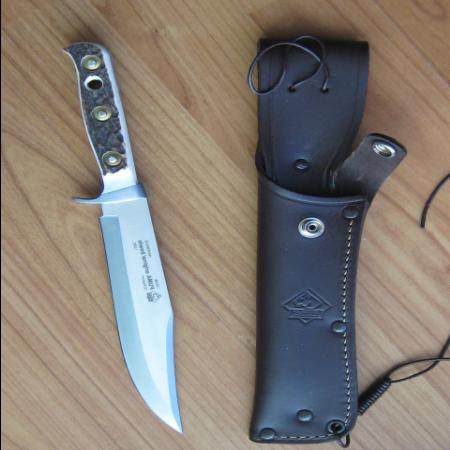long weapon: (62, 183, 192, 439)
